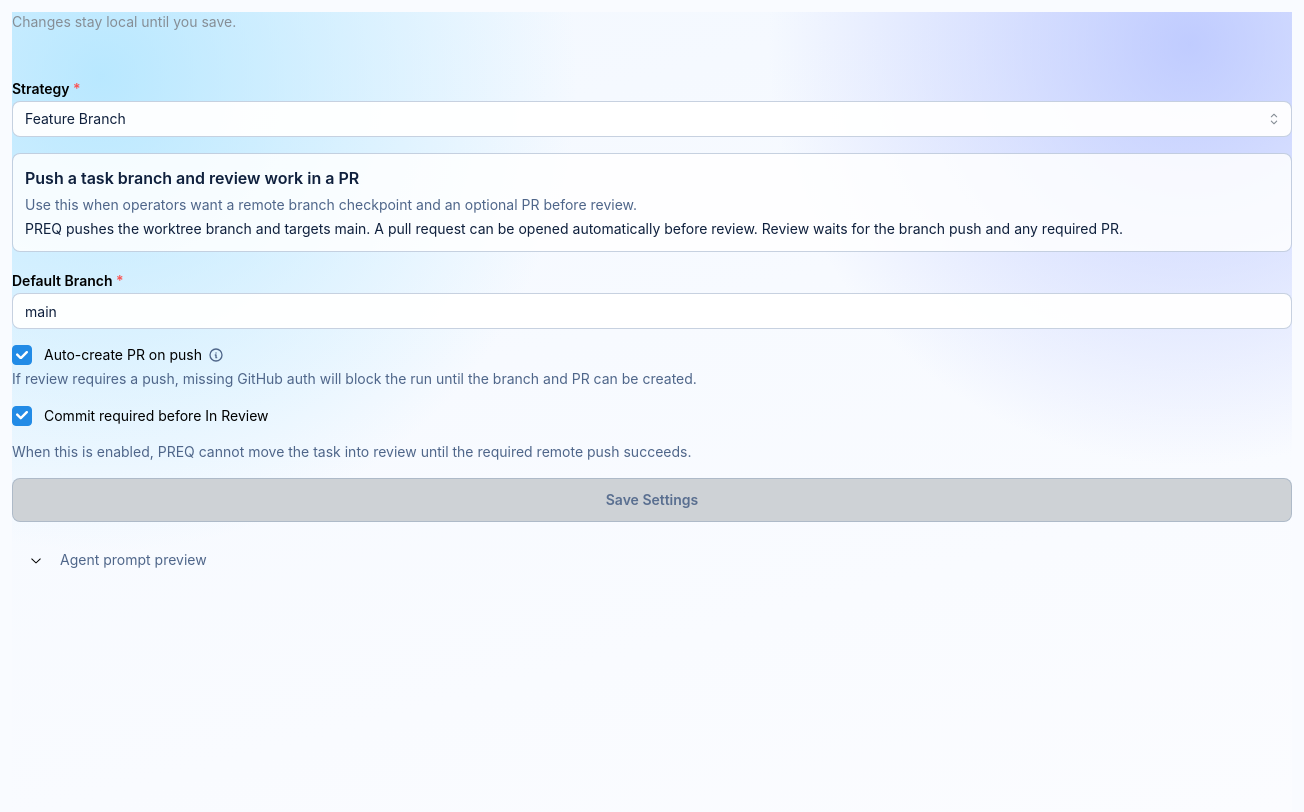
Scenario: app/components/panels/deploy-settings-panel › explains guardrails and operator risk in plain language
Expected: the text "If review requires a push, missing GitHub auth will block the run" is shown, [12,370,697,387]
Select "Direct Commit" in the dropdown labelled "Strategy *". click: [652, 119]
box: [12,101,1292,137]
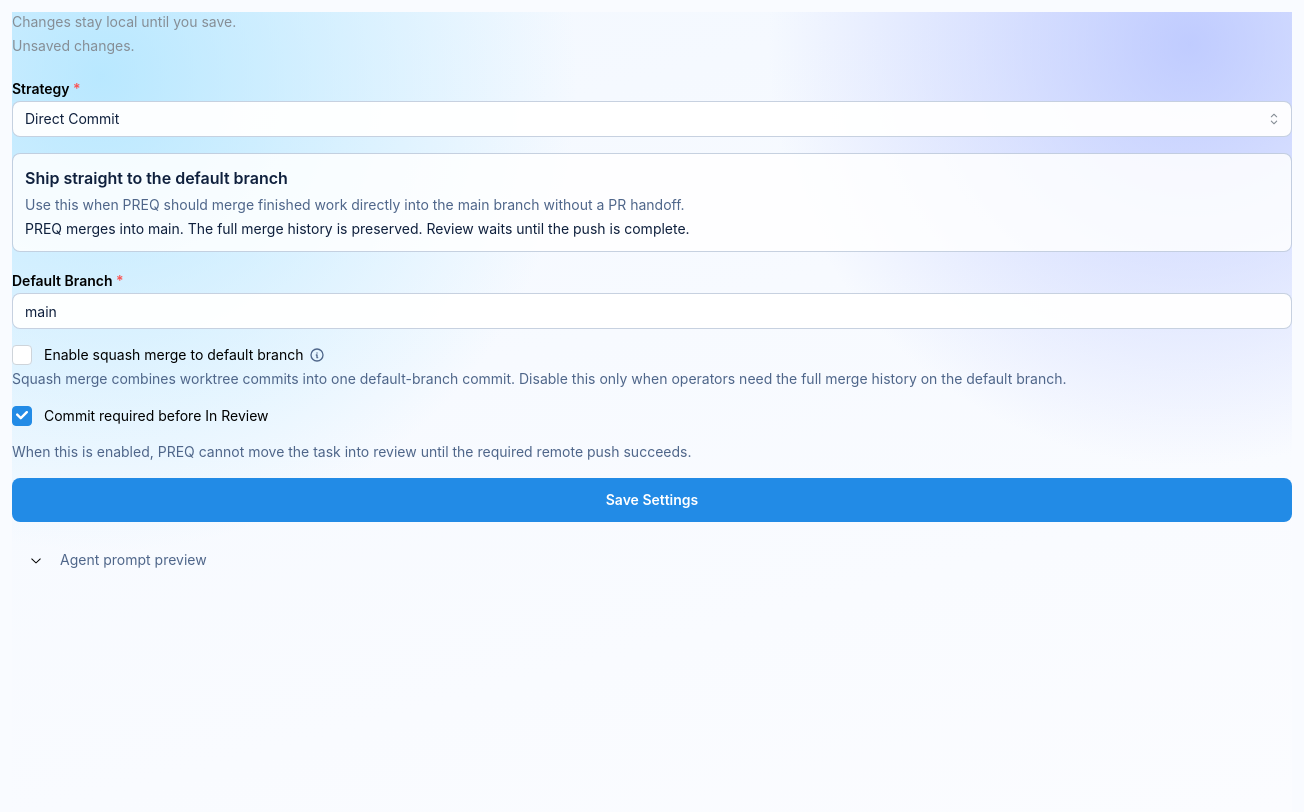
Expected: the text "Disable this only when operators need the full merge history on the default branch" is shown, [12,370,1066,387]
